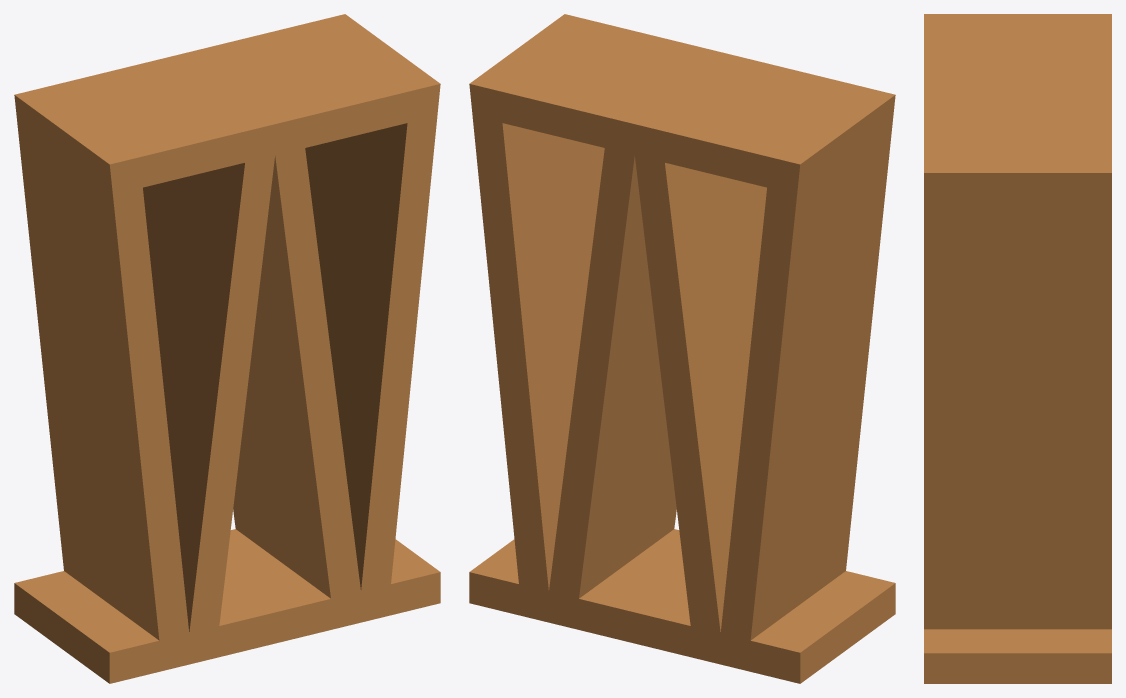
File: Edan-Jaali.gltf
3 renders of one model, left to right at view 1: azimuth 30°, elevation 25°; view 2: azimuth 150°, elevation 25°; view 3: azimuth 270°, elevation 25°, orthographic.
Parts seen in each view (by area): view 1: 2976, 2975; view 2: 2975, 2976; view 3: 2976, 2975.
Part boxes in pixels (x1,y1,x2,y2): 2976: [14, 14, 440, 683]; 2975: [14, 95, 439, 683]; 2975: [469, 84, 895, 683]; 2976: [469, 14, 895, 589]; 2976: [924, 14, 1111, 629]; 2975: [924, 629, 1111, 683].
Size of the model in its own units: 200 by 300 by 100.
